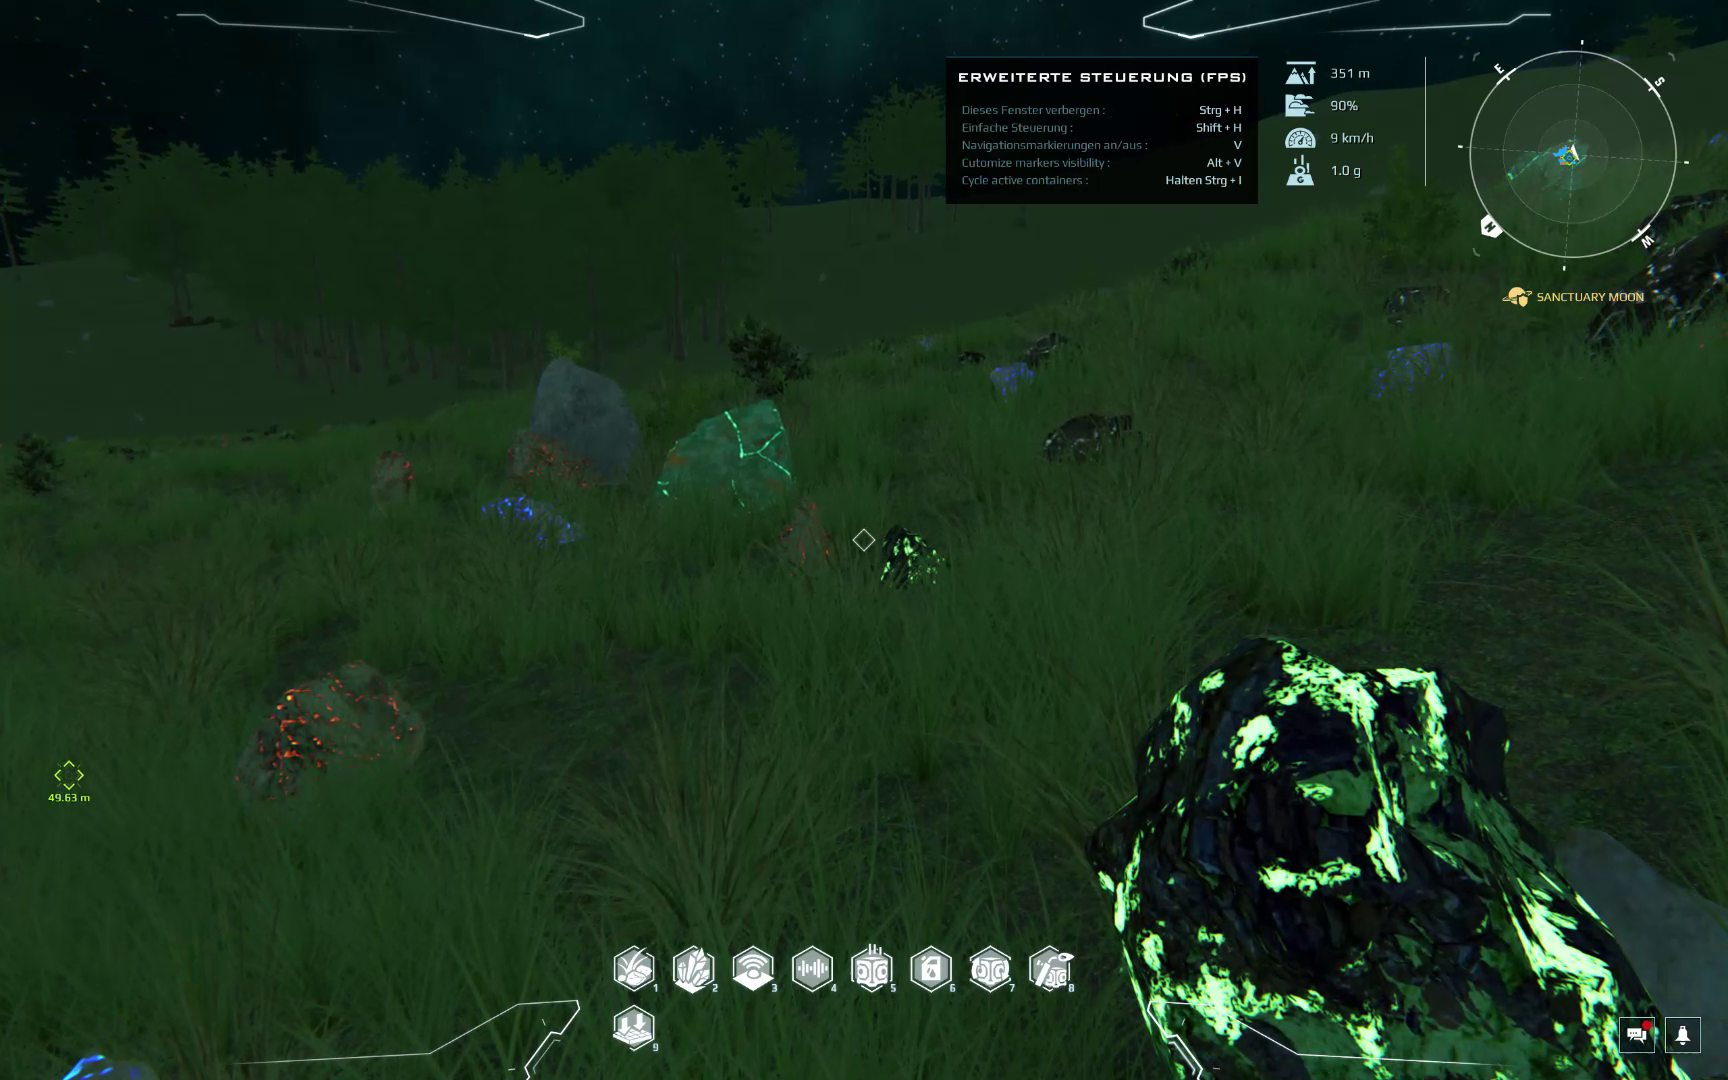Ore: (1081, 628, 1706, 1080), (233, 651, 429, 815), (1580, 216, 1728, 370), (646, 394, 796, 535), (1357, 327, 1469, 408), (498, 427, 610, 505), (771, 493, 842, 584), (1635, 175, 1728, 244), (476, 493, 585, 549), (1038, 406, 1132, 468), (870, 521, 945, 598), (45, 1044, 169, 1080), (369, 445, 428, 520), (1373, 281, 1456, 327), (984, 360, 1043, 404), (1023, 331, 1077, 368), (952, 345, 992, 370)
